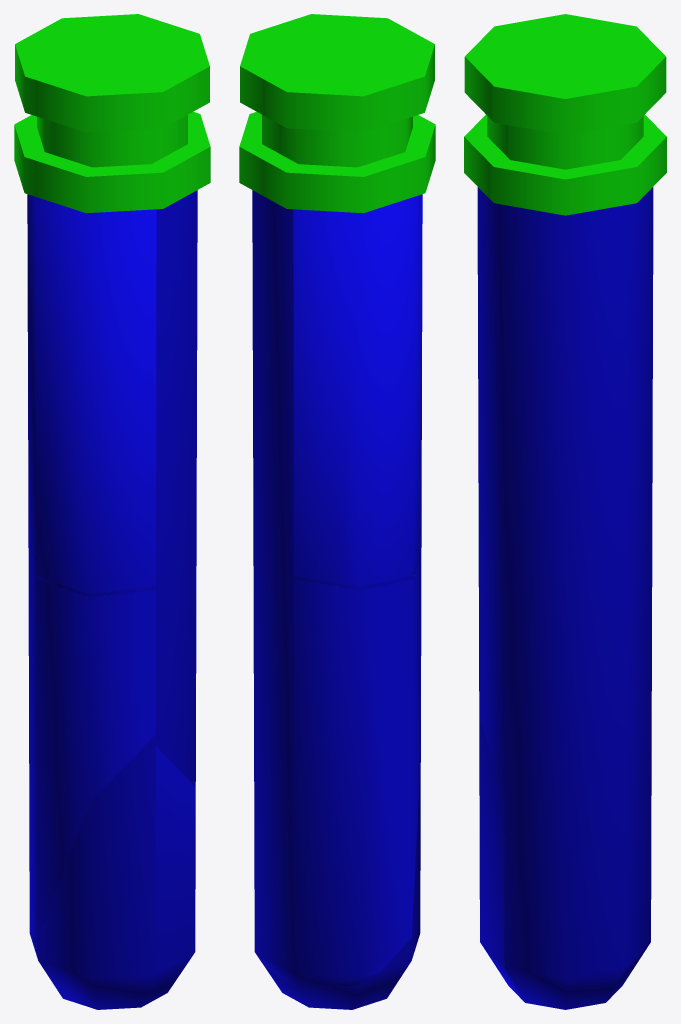
The model's file is Lab_TestTube.fbx.
3 views of the same model, side by side, from view 1: azimuth 30°, elevation 25°; view 2: azimuth 150°, elevation 25°; view 3: azimuth 270°, elevation 25° (orthographic).
Parts seen in each view (by area): view 1: Plane.691, Plane.691_cell.004, Plane.691_cell.001, Plane.691_cell, Plane.674; view 2: Plane.691, Plane.691_cell.001, Plane.691_cell.004, Plane.674, Plane.691_cell.003; view 3: Plane.691, Plane.674, Plane.691_cell.
Boxes of the visible parts, box(x1,y1,x2,y2) form: Plane.691: box(14, 14, 210, 1009); Plane.691_cell.004: box(27, 194, 156, 594); Plane.691_cell.001: box(28, 545, 155, 944); Plane.691_cell: box(141, 746, 194, 1007); Plane.674: box(14, 15, 209, 208); Plane.691: box(239, 14, 435, 1009); Plane.691_cell.001: box(294, 554, 421, 988); Plane.691_cell.004: box(293, 194, 422, 586); Plane.674: box(239, 14, 435, 212); Plane.691_cell.003: box(265, 966, 308, 1007); Plane.691: box(464, 14, 666, 1009); Plane.674: box(464, 31, 665, 198); Plane.691_cell: box(479, 715, 523, 1001).
Size of the model in its own units: 0.0968 by 0.4983 by 0.0968.
